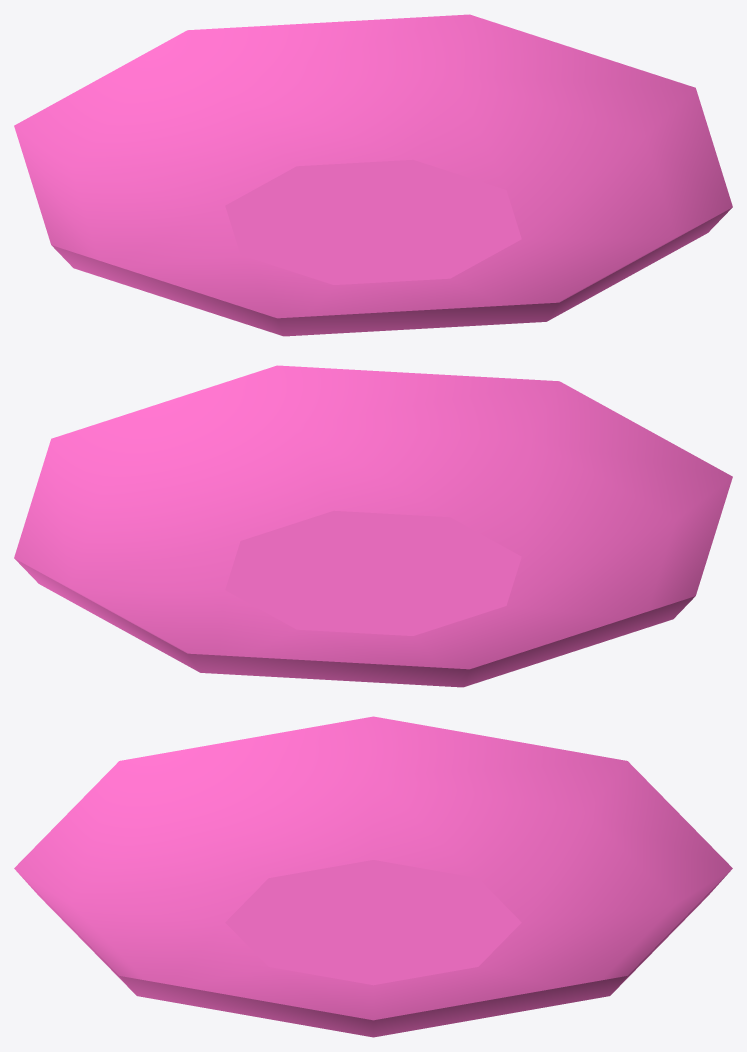
Rendered from Plate_J.FBX.
3 renders of one model, top to bottom at view 1: azimuth 30°, elevation 25°; view 2: azimuth 150°, elevation 25°; view 3: azimuth 270°, elevation 25°, orthographic. The views are drawn at different scales.
Visible parts, largest first — view 1: Plate_A; view 2: Plate_A; view 3: Plate_A.
Boxes of the visible parts, <box> form: Plate_A: <box>14,14,732,336</box>; Plate_A: <box>14,365,732,687</box>; Plate_A: <box>14,716,732,1037</box>.
Bounding box in the file's own units: 70.43 × 6.32 × 70.43.
